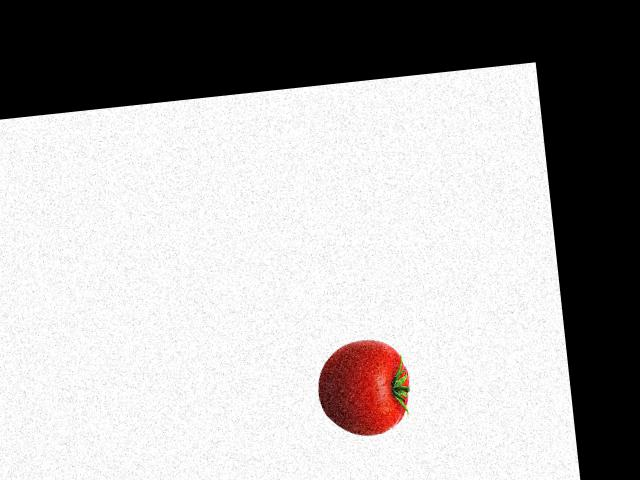tomato: (314, 346, 414, 440)
